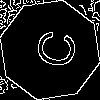C: (25, 25, 79, 71)
